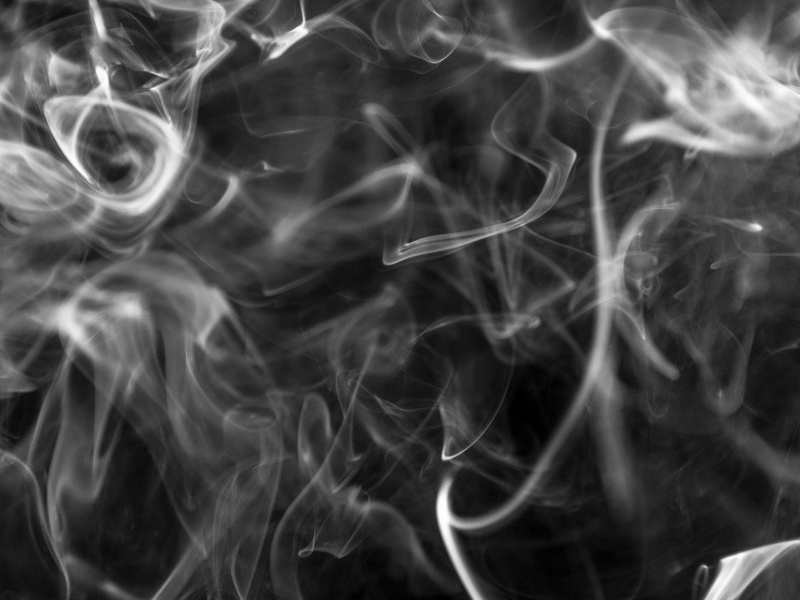smoke: (5, 5, 754, 433)
